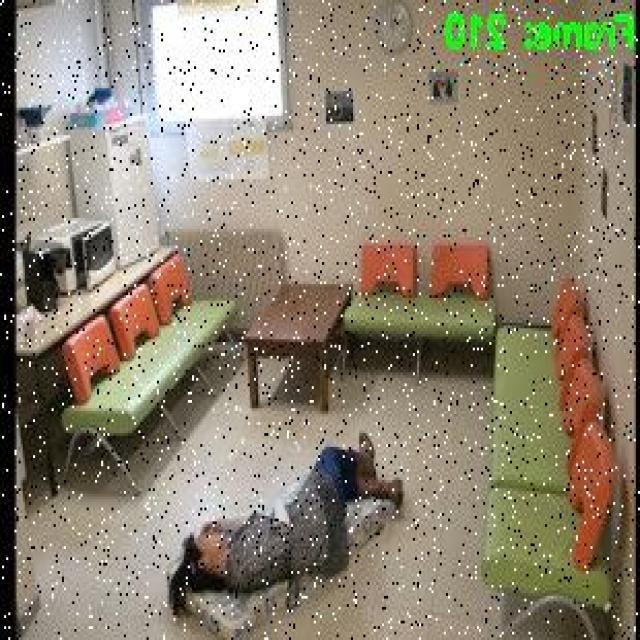fall: (168, 429, 410, 622)
